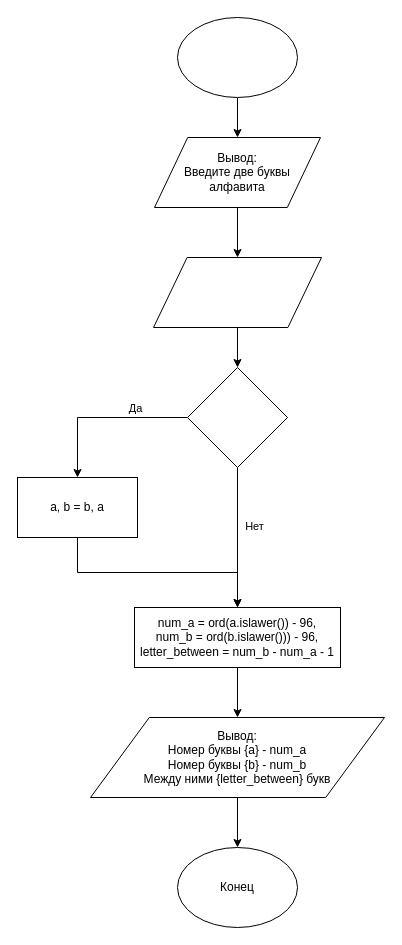
This 402x945 diagram has some shape labels left out. The shapes that lost their labels are listed below. From the top down, each one's centre as x and y in pixels, then its label:
(237,57): Начало
(237,292): Ввод: a = input() b = input()
(237,417): a.lower() > b.lower()
